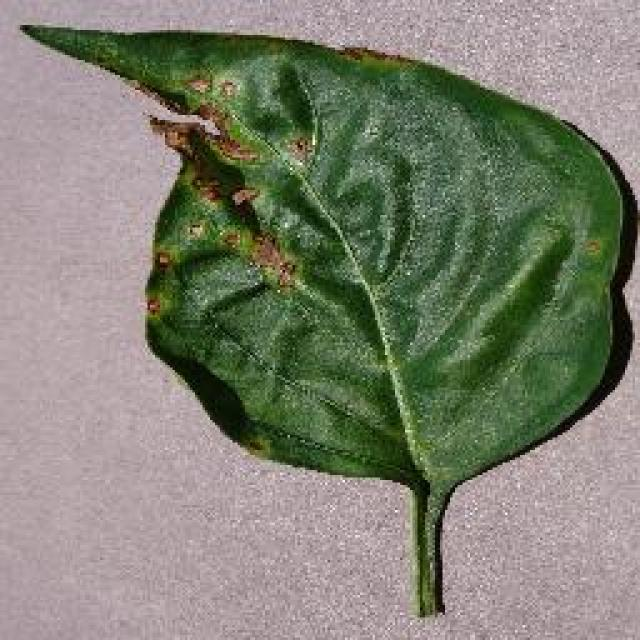Chilli_Bacterial_Spot: (15, 18, 637, 618), (142, 68, 318, 300), (245, 228, 300, 292), (283, 130, 315, 168), (225, 180, 263, 212), (180, 215, 210, 245), (180, 70, 212, 98), (272, 258, 298, 292), (577, 232, 605, 260), (212, 75, 240, 103), (140, 292, 162, 320), (150, 248, 172, 272), (635, 40, 637, 80)
